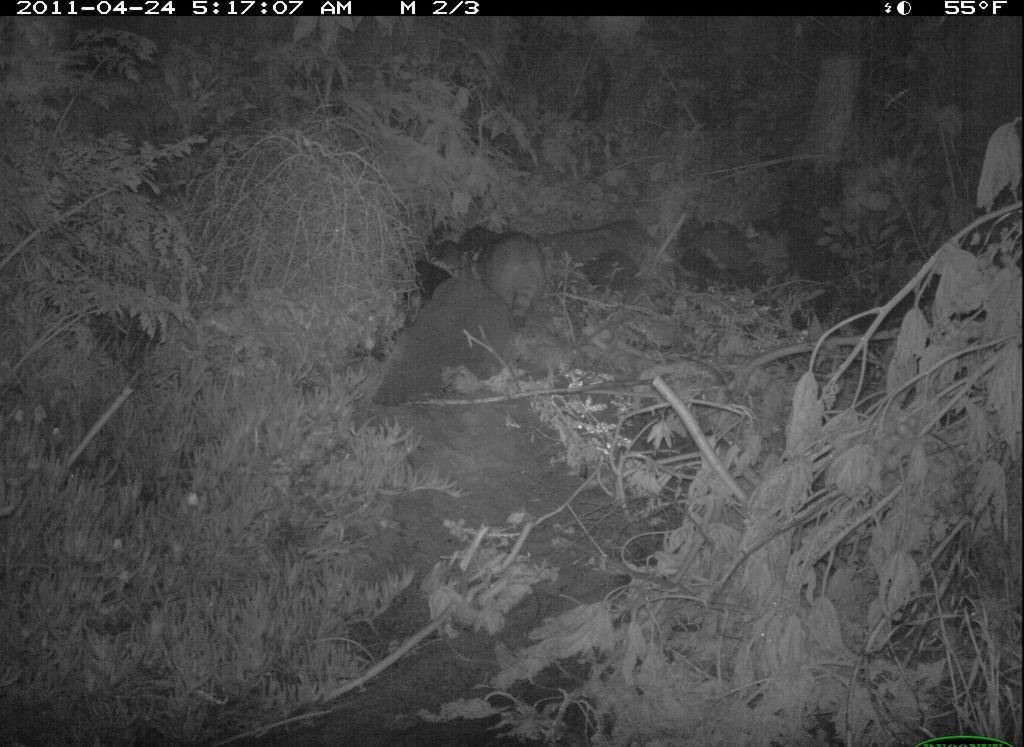raccoon: (455, 203, 573, 336)
